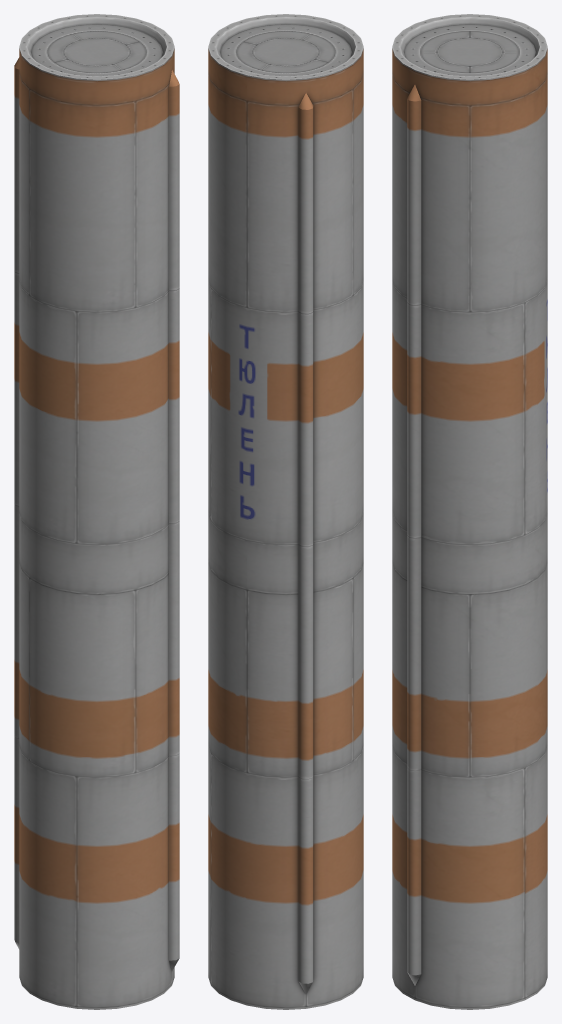
File: CLV_1_LFO_1.obj
3 renders of one model, left to right at view 1: azimuth 30°, elevation 25°; view 2: azimuth 150°, elevation 25°; view 3: azimuth 270°, elevation 25°, orthographic.
Visible parts, largest first — view 1: CLV_1_LFO_1; view 2: CLV_1_LFO_1; view 3: CLV_1_LFO_1.
Part boxes in pixels (x1,y1,x2,y2): CLV_1_LFO_1: (14, 14, 179, 1009); CLV_1_LFO_1: (208, 14, 363, 1009); CLV_1_LFO_1: (392, 14, 547, 1009).
Size of the model in its own units: 1.25 by 8.25 by 1.25.
